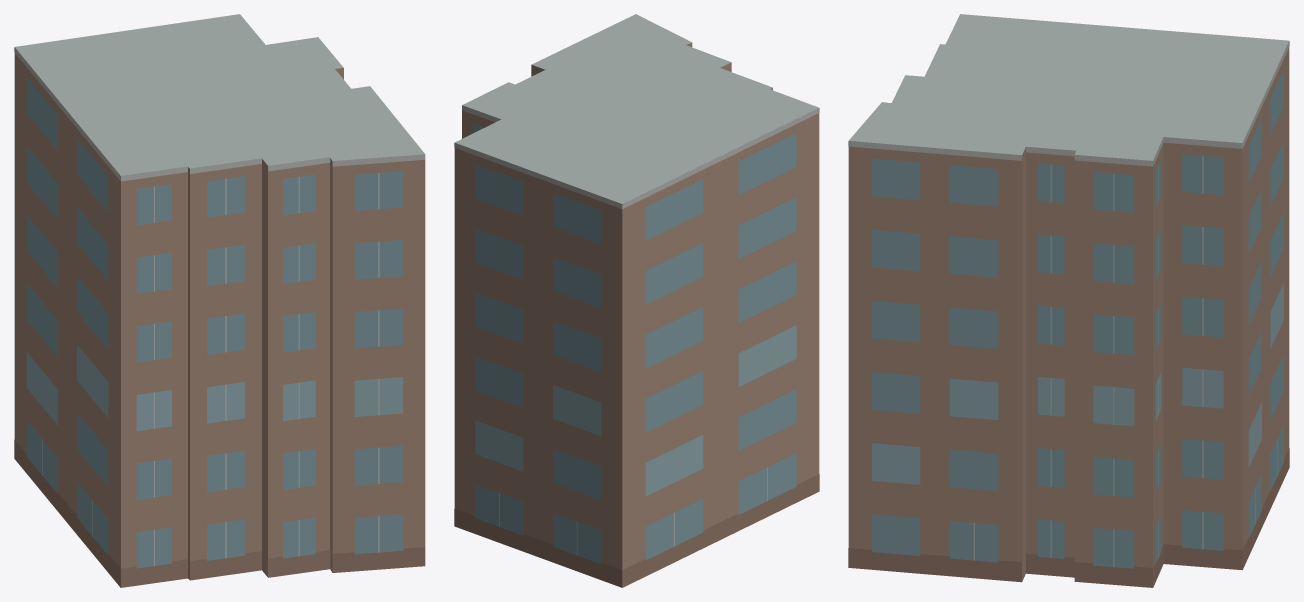
File: survey-upis-33026102.glb
3 renders of one model, left to right at view 1: azimuth 30°, elevation 25°; view 2: azimuth 150°, elevation 25°; view 3: azimuth 270°, elevation 25°, orthographic. The views are drawn at different scales.
Visible parts, largest first — view 1: survey-upis-33026102.tmp; view 2: survey-upis-33026102.tmp; view 3: survey-upis-33026102.tmp.
Boxes of the visible parts, x1,y1,x2,y2 form: survey-upis-33026102.tmp: (14, 14, 425, 587); survey-upis-33026102.tmp: (454, 14, 819, 587); survey-upis-33026102.tmp: (848, 14, 1289, 587).
Bounding box in the file's own units: 13.52 × 18.3 × 17.14.
